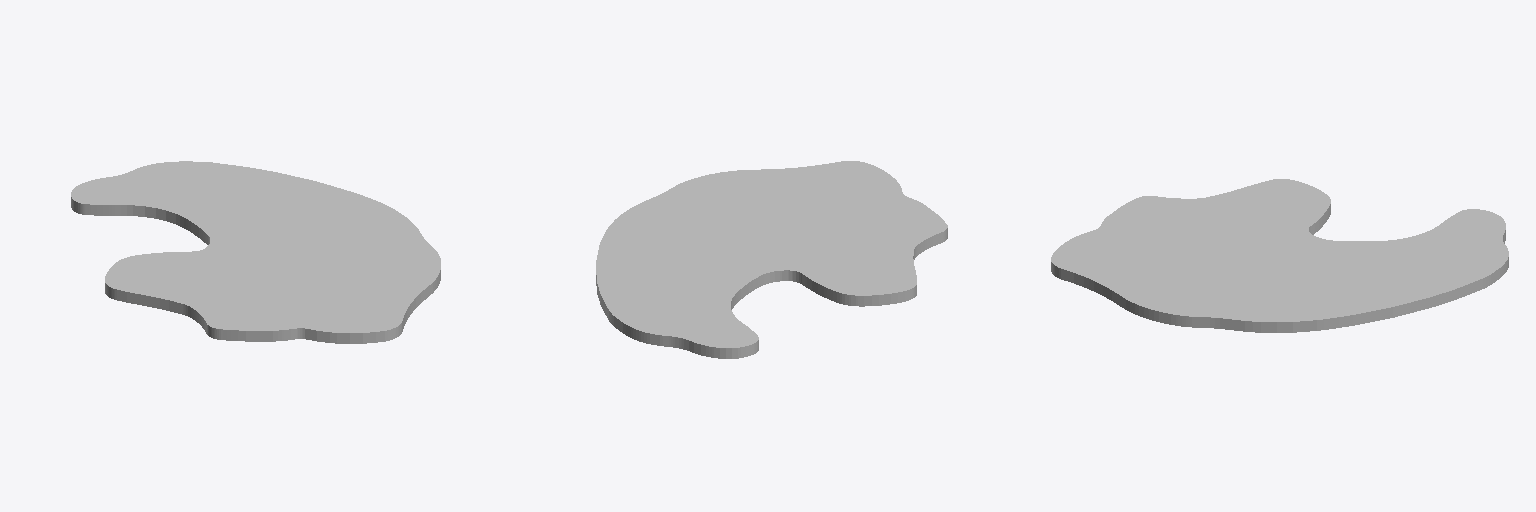
File: gas2col.obj
3 renders of one model, left to right at view 1: azimuth 30°, elevation 25°; view 2: azimuth 150°, elevation 25°; view 3: azimuth 270°, elevation 25°, orthographic.
Visible parts, largest first — view 1: Mesh2_Model.002; view 2: Mesh2_Model.002; view 3: Mesh2_Model.002.
Boxes of the visible parts, x1,y1,x2,y2 form: Mesh2_Model.002: [71, 161, 440, 343]; Mesh2_Model.002: [596, 161, 947, 358]; Mesh2_Model.002: [1051, 179, 1508, 332].
Size of the model in its own units: 2.57 by 0.09 by 3.47.